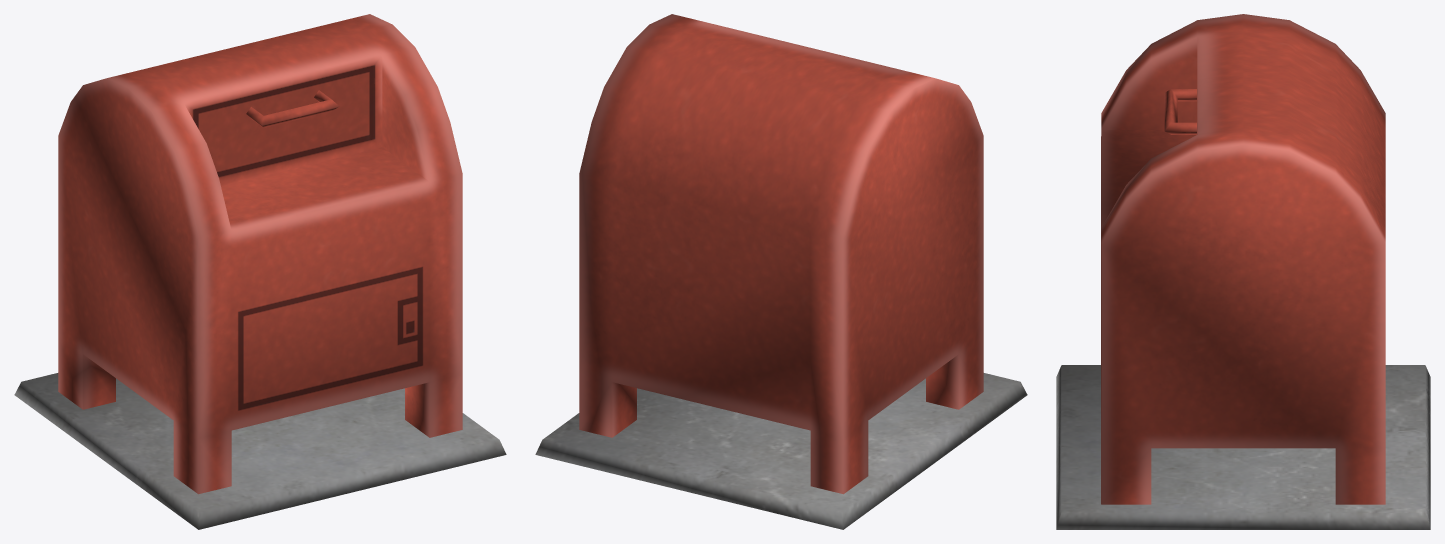
The model's file is sb_obj_ModernCity100_post_a.fbx.
3 renders of one model, left to right at view 1: azimuth 30°, elevation 25°; view 2: azimuth 150°, elevation 25°; view 3: azimuth 270°, elevation 25°, orthographic.
Parts seen in each view (by area): view 1: sb_obj_ModernCity100_post_a; view 2: sb_obj_ModernCity100_post_a; view 3: sb_obj_ModernCity100_post_a.
Part boxes in pixels (x1,y1,x2,y2): sb_obj_ModernCity100_post_a: (14, 14, 506, 529); sb_obj_ModernCity100_post_a: (535, 14, 1027, 529); sb_obj_ModernCity100_post_a: (1056, 14, 1430, 529).
Size of the model in its own units: 0.8545 by 0.9761 by 0.8855.
